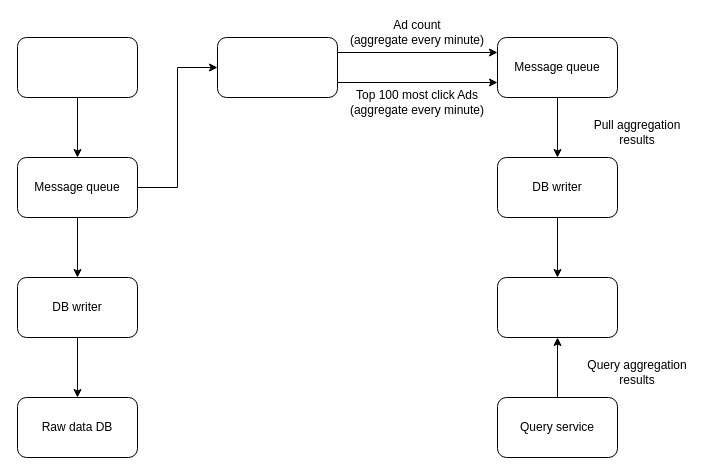
The diagram is 715 pixels wide and 475 high, and some of its shapes have lost their labels. The centre of each missing label's shape, as x and y in pixels:
"Aggregation DB" goes at point (557, 307).
"Data aggregation service" goes at point (277, 67).
"Log watcher" goes at point (77, 67).
